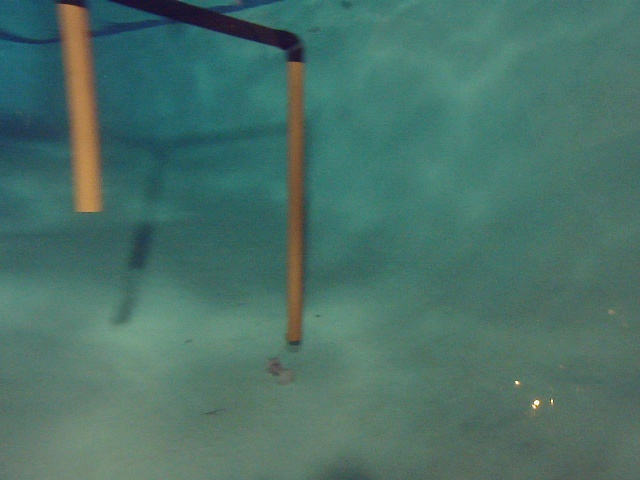Gate: (56, 2, 111, 217), (282, 58, 308, 347)
